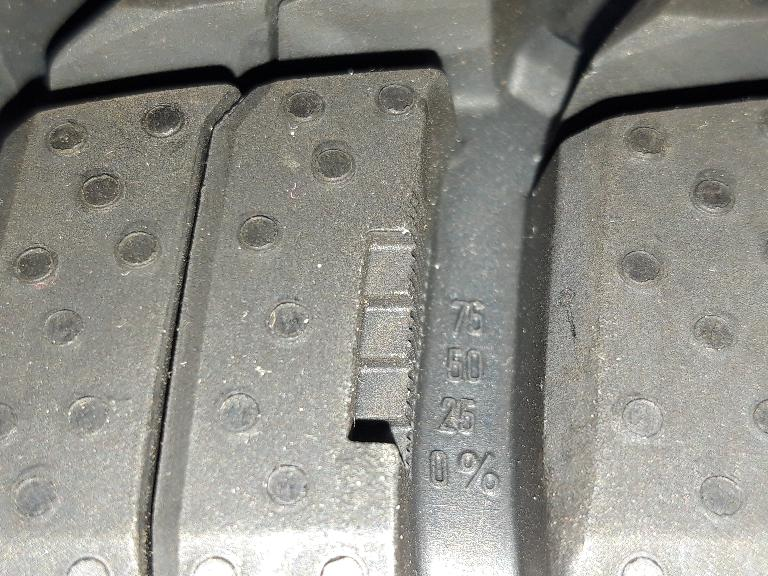temoin:100: (344, 190, 440, 489)
